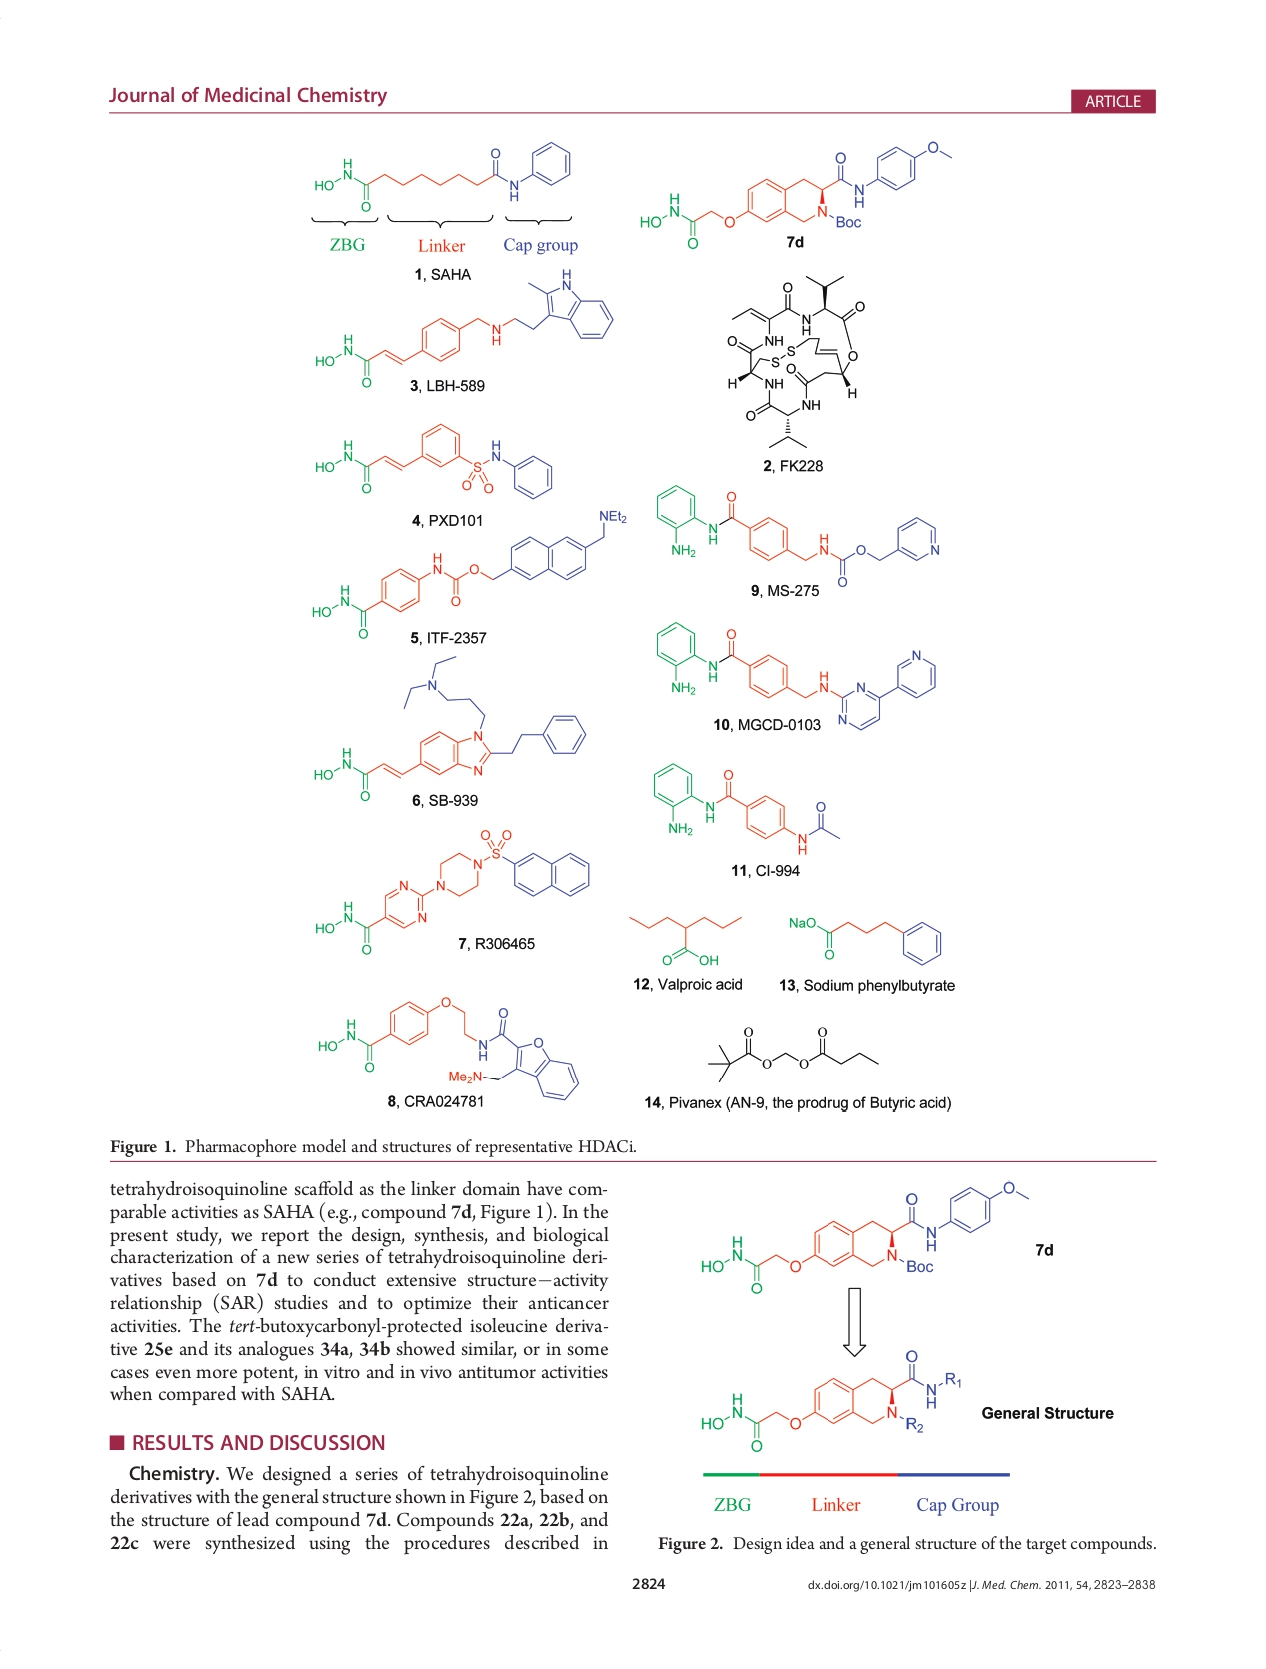exist_molecular: (309, 508, 629, 640), (313, 654, 590, 802), (696, 1178, 1029, 1297), (310, 265, 613, 390), (634, 138, 956, 254), (311, 827, 593, 955), (649, 618, 942, 734), (652, 480, 942, 590), (313, 992, 581, 1102), (696, 1347, 963, 1455), (725, 270, 867, 449), (306, 137, 574, 214), (313, 422, 559, 503), (650, 758, 840, 860), (703, 1013, 884, 1087), (787, 910, 946, 969), (622, 906, 749, 965)
